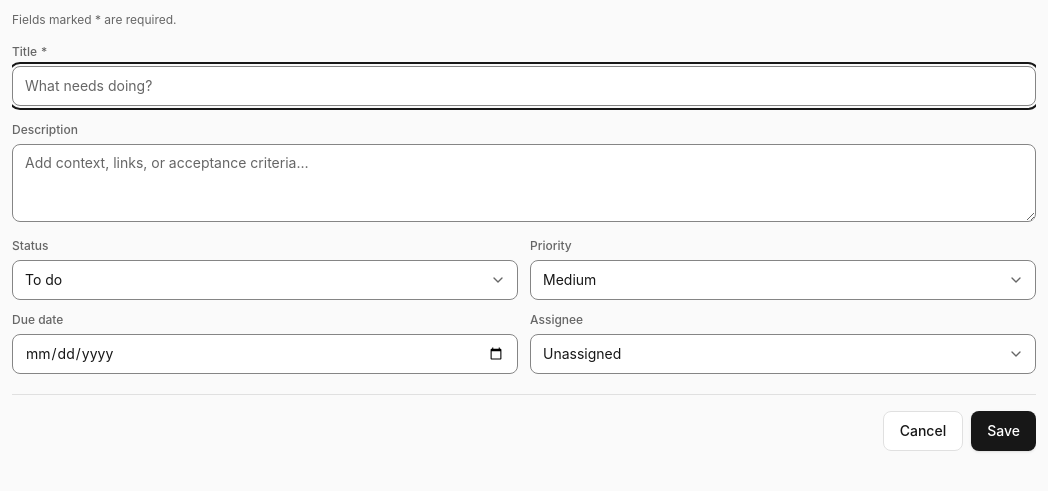
Scenario: TaskForm › shows a validation error and does not submit an empty title
This screenshot has width=1048, height=491.
Click the button "Save".
click(1004, 431)  # box [971, 411, 1036, 451]
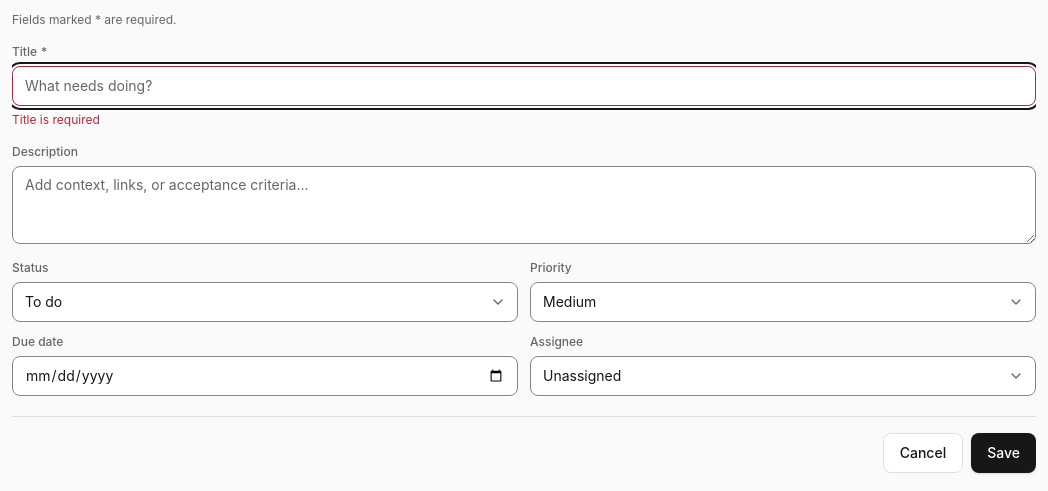
Now the text "Title is required" is shown, box [12, 112, 100, 127]
